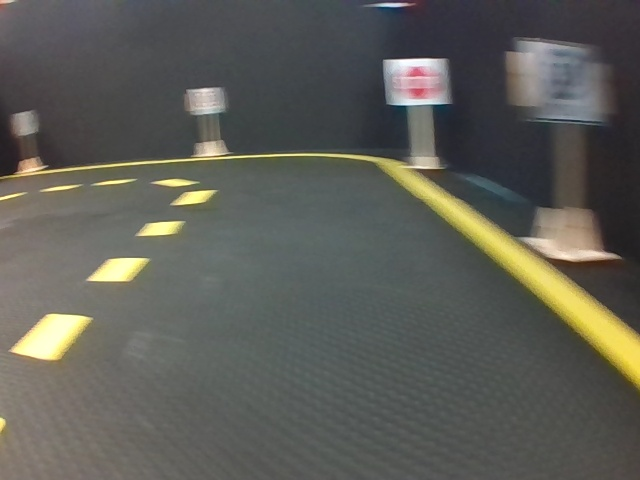30: (192, 89, 220, 115)
no30: (527, 40, 605, 126)
stop: (389, 60, 444, 105)
